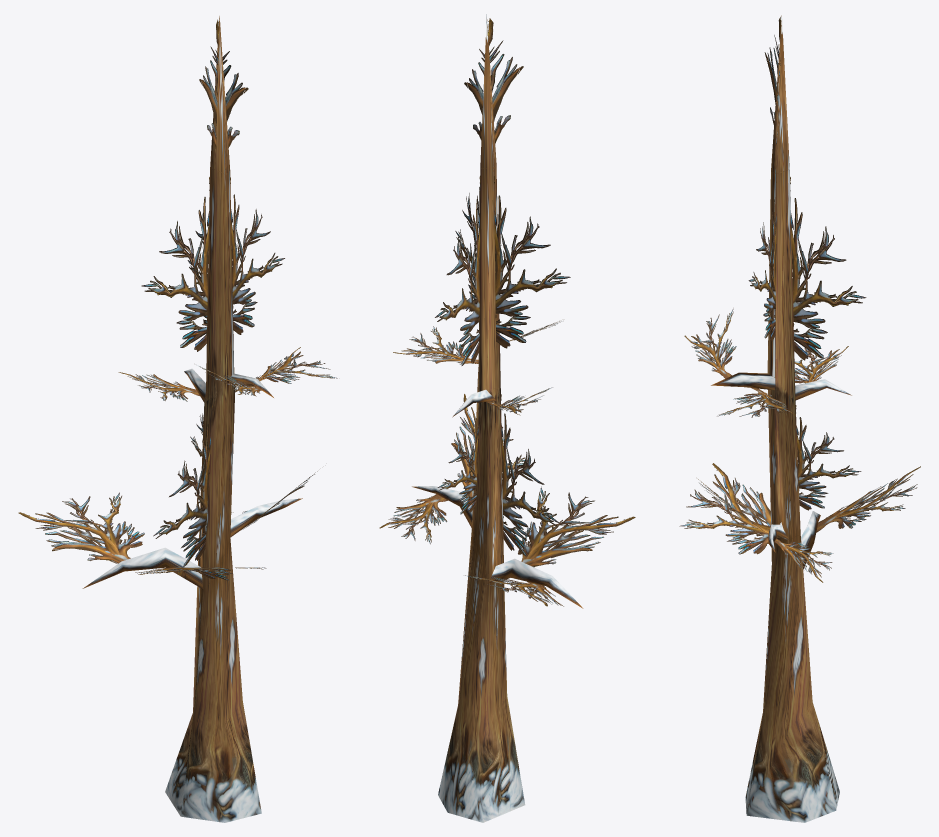
Rendered from wintertree04.obj.
3 renders of one model, left to right at view 1: azimuth 30°, elevation 25°; view 2: azimuth 150°, elevation 25°; view 3: azimuth 270°, elevation 25°, orthographic.
Visible parts, largest first — view 1: Geoset0, Geoset2, Geoset1; view 2: Geoset0, Geoset2, Geoset1; view 3: Geoset0, Geoset2, Geoset1.
Boxes of the visible parts, x1=… form: Geoset0: x1=165, y1=16, x2=261, y2=822; Geoset2: x1=18, y1=19, x2=337, y2=580; Geoset1: x1=82, y1=368, x2=302, y2=589; Geoset0: x1=438, y1=14, x2=525, y2=822; Geoset2: x1=379, y1=18, x2=635, y2=606; Geoset1: x1=412, y1=389, x2=583, y2=608; Geoset0: x1=745, y1=15, x2=839, y2=822; Geoset2: x1=679, y1=17, x2=920, y2=582; Geoset1: x1=711, y1=372, x2=851, y2=568.
Size of the model in its own units: 14.98 by 50.01 by 14.68.
Materials: 3 (3 with a texture image).
